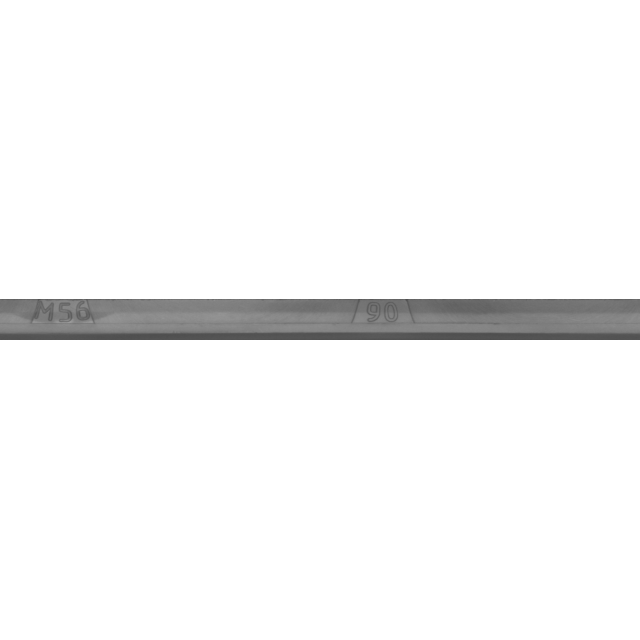mohao: (0, 270, 162, 370)
xuehao: (277, 270, 477, 370)
